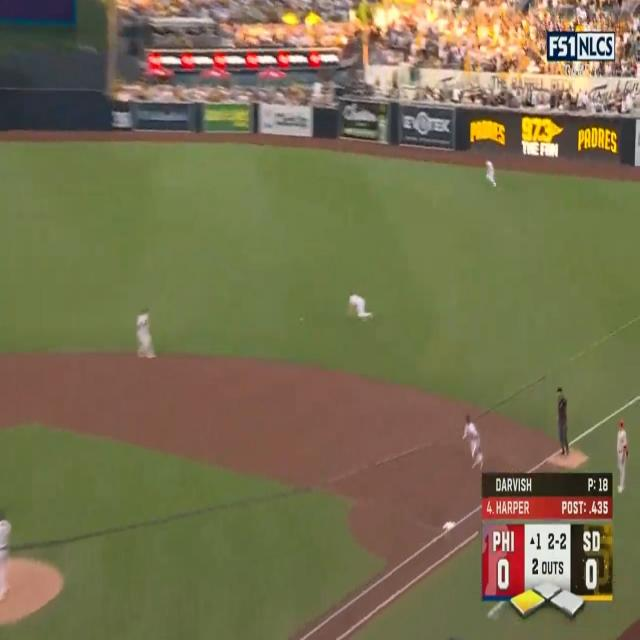baseball: (300, 317, 304, 321)
